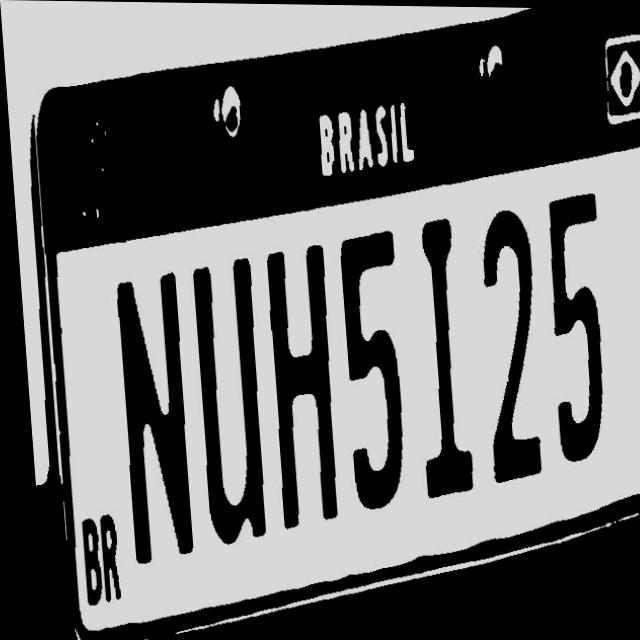2: (461, 181, 551, 469)
5: (325, 203, 412, 493), (536, 169, 615, 442)
h: (249, 221, 339, 512)
i: (396, 193, 476, 483)
n: (102, 253, 194, 564)
u: (176, 234, 266, 539)
